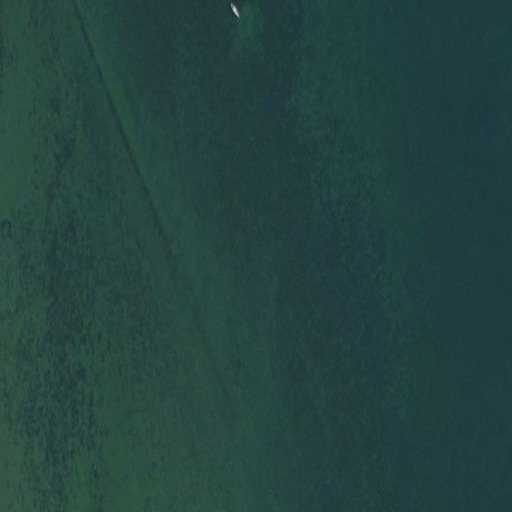ship: (229, 1, 241, 18)
